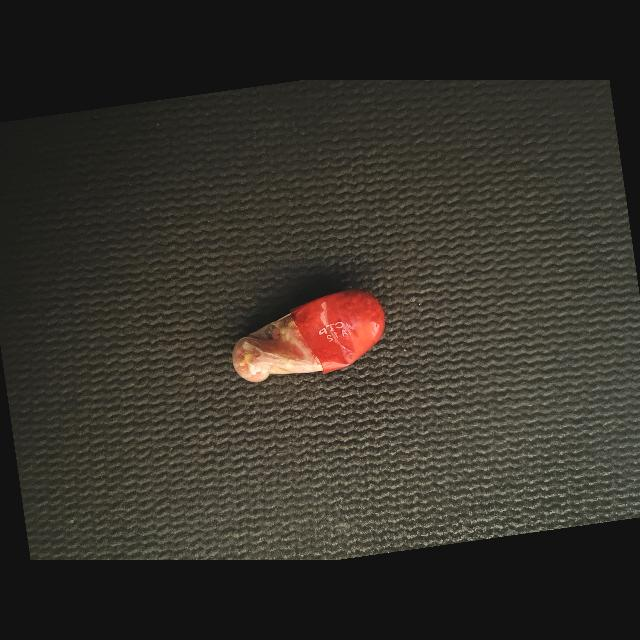Defective Capsule: (232, 290, 385, 383)
